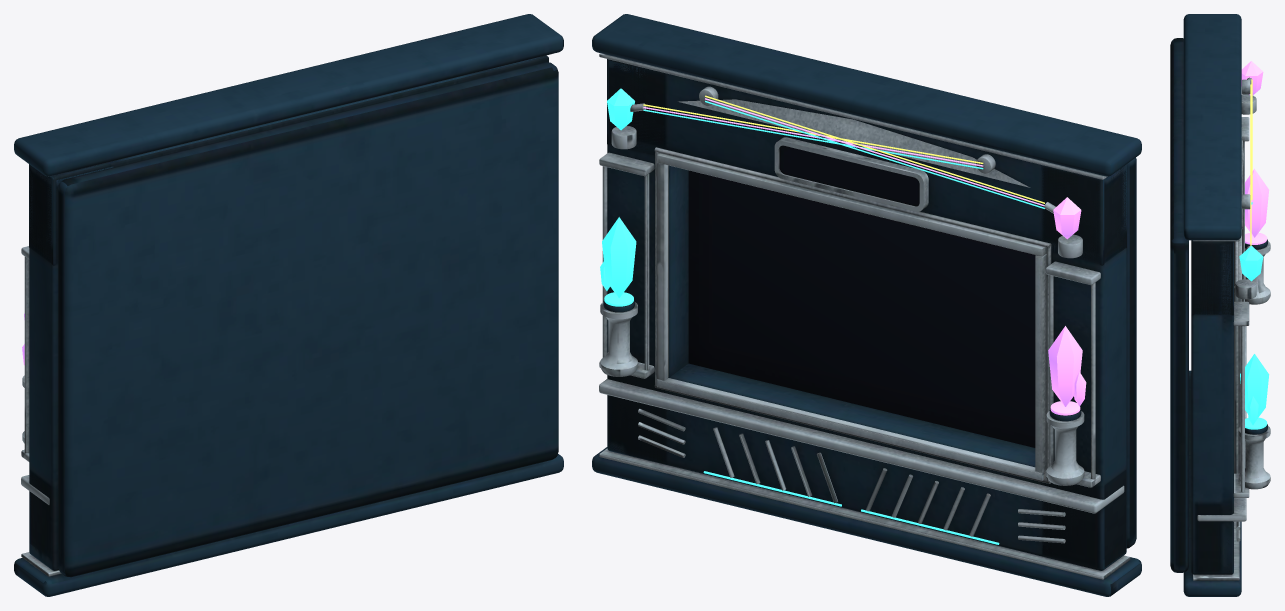
3 renders of one model, left to right at view 1: azimuth 30°, elevation 25°; view 2: azimuth 150°, elevation 25°; view 3: azimuth 270°, elevation 25°, orthographic. The views are drawn at different scales.
Parts seen in each view (by area): view 1: Midnight_titanium, Platinum_optical_trim; view 2: Midnight_titanium, Display_uniform_ink, Platinum_optical_trim, Cyan_crystal_glow, Violet_crystal_glow, Amber_spectral_glow; view 3: Midnight_titanium, Platinum_optical_trim, Cyan_crystal_glow, Violet_crystal_glow, Amber_spectral_glow.
Boxes of the visible parts, x1=… form: Midnight_titanium: x1=14, y1=14, x2=563, y2=596; Platinum_optical_trim: x1=21, y1=176, x2=61, y2=576; Midnight_titanium: x1=592, y1=14, x2=1141, y2=596; Display_uniform_ink: x1=688, y1=145, x2=1035, y2=447; Platinum_optical_trim: x1=599, y1=53, x2=1130, y2=579; Cyan_crystal_glow: x1=600, y1=88, x2=1044, y2=544; Violet_crystal_glow: x1=643, y1=98, x2=1086, y2=415; Amber_spectral_glow: x1=643, y1=95, x2=1044, y2=203; Midnight_titanium: x1=1170, y1=14, x2=1267, y2=596; Platinum_optical_trim: x1=1193, y1=77, x2=1270, y2=580; Cyan_crystal_glow: x1=1239, y1=202, x2=1269, y2=429; Violet_crystal_glow: x1=1241, y1=61, x2=1269, y2=244; Amber_spectral_glow: x1=1250, y1=79, x2=1252, y2=245.
Bounding box in the file's own units: 11.45 × 9.2 × 2.25.
6 materials, 3 textured.
